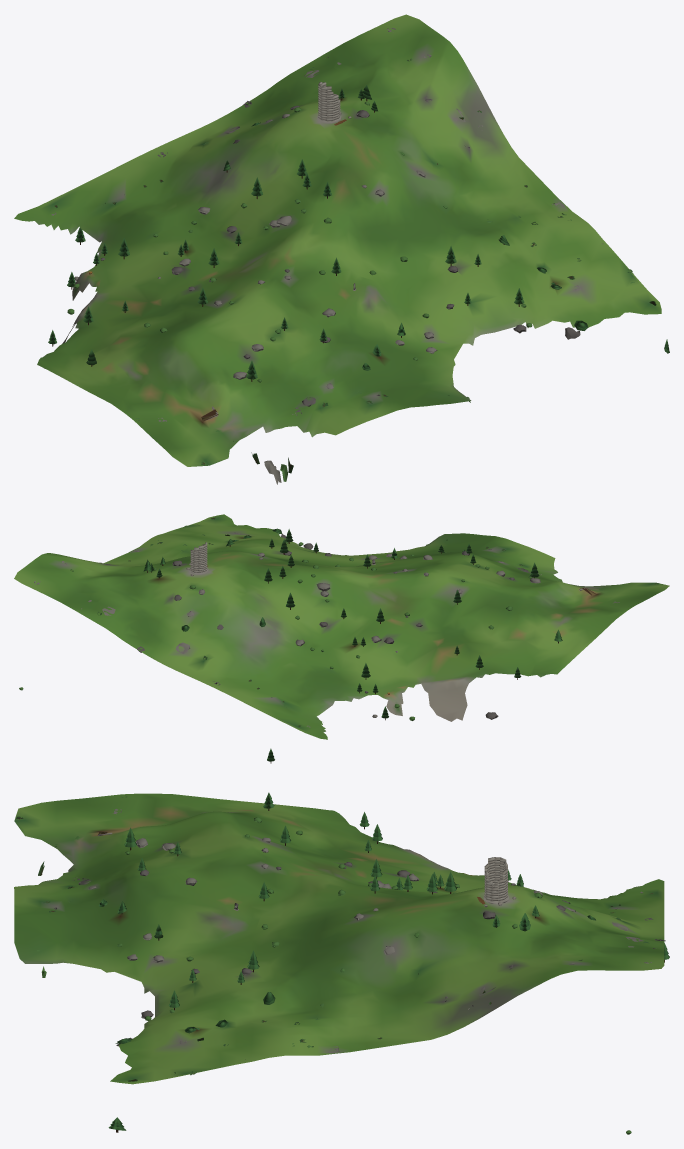
Rendered from arch_isl_lantern_rock_lod1.glb.
3 renders of one model, top to bottom at view 1: azimuth 30°, elevation 25°; view 2: azimuth 150°, elevation 25°; view 3: azimuth 270°, elevation 25°, orthographic. The views are drawn at different scales.
Parts seen in each view (by area): view 1: arch_isl_lantern_rock_lod1; view 2: arch_isl_lantern_rock_lod1; view 3: arch_isl_lantern_rock_lod1.
Boxes of the visible parts, box(x1,y1,x2,y2) form: arch_isl_lantern_rock_lod1: box(14, 14, 669, 484); arch_isl_lantern_rock_lod1: box(14, 514, 669, 763); arch_isl_lantern_rock_lod1: box(14, 792, 669, 1134).
Size of the model in its own units: 242 by 77.02 by 242.
